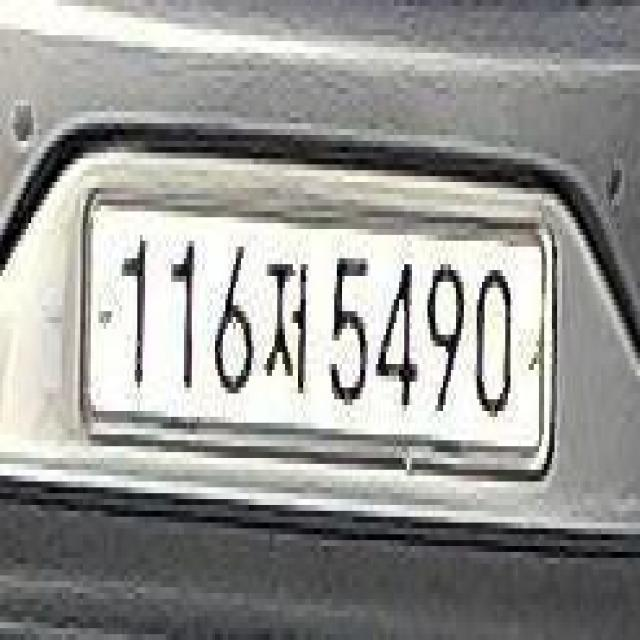illegal_plate: (81, 173, 553, 497)
